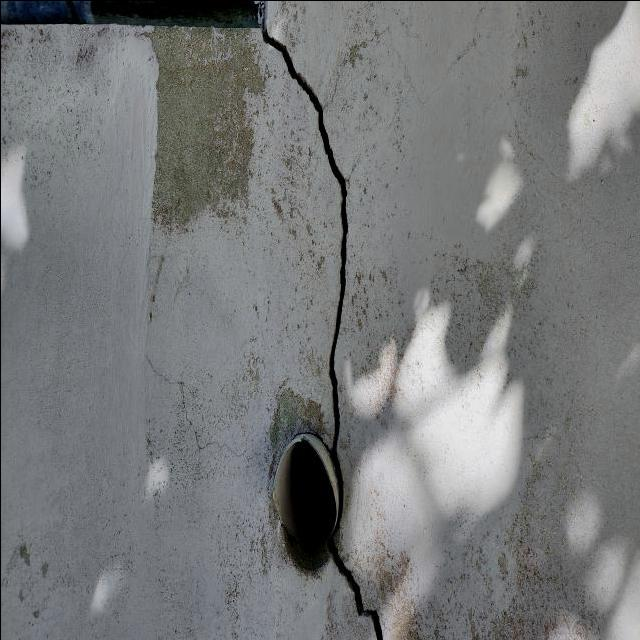SurfaceCrack: (226, 1, 426, 640)
